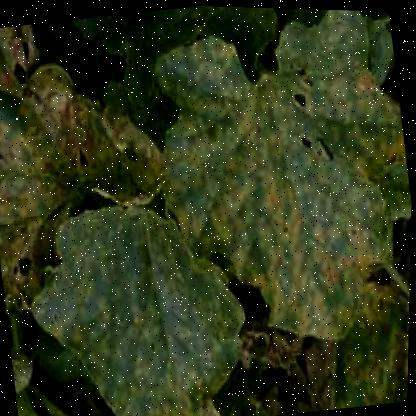Anthracnose: (248, 204, 382, 340), (36, 61, 130, 211), (0, 125, 55, 310)
